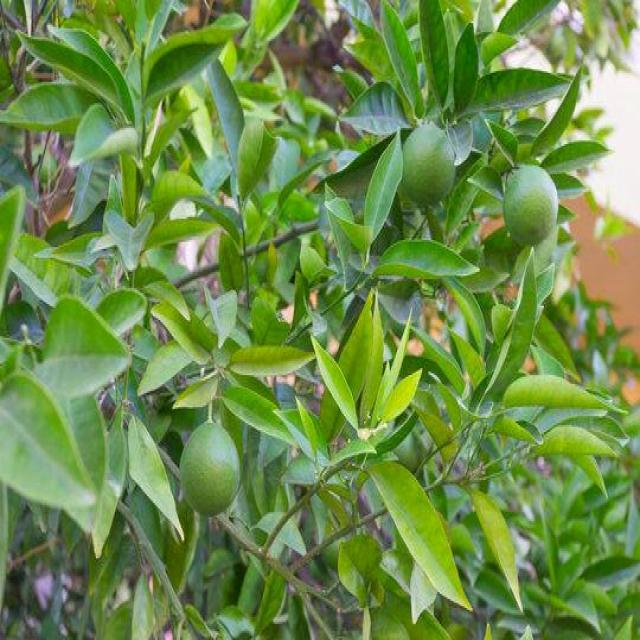Jeruk Belum Matang: (179, 418, 243, 518), (400, 124, 456, 210), (502, 164, 558, 244)
